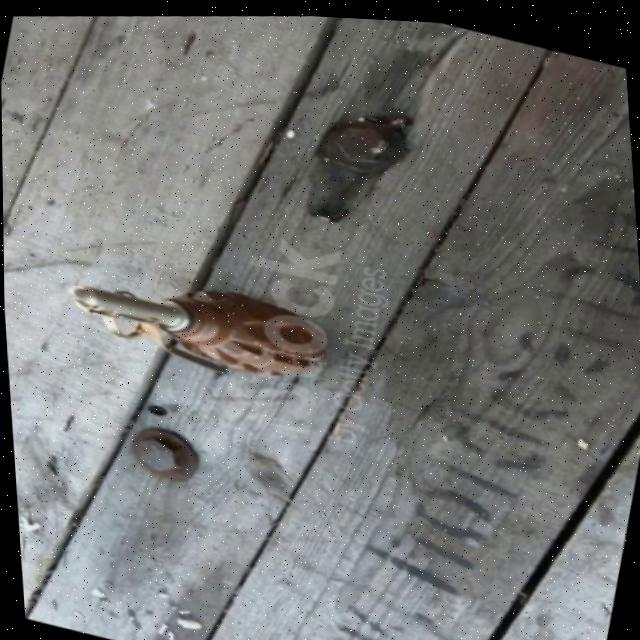grenade: (51, 231, 343, 410)
